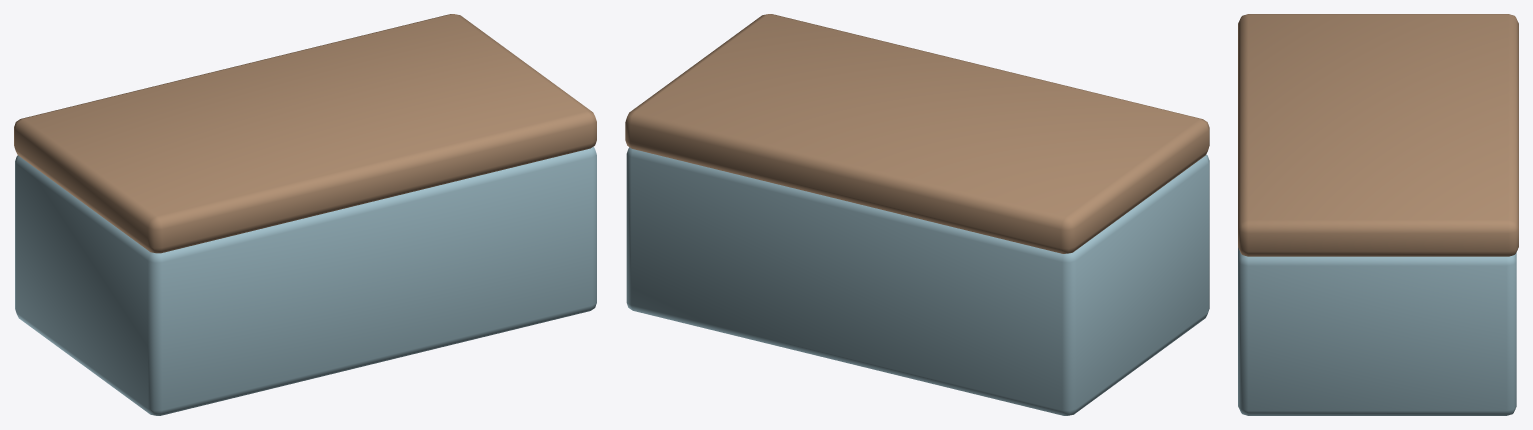
The model's file is Furniture_Counter_01.glb.
3 views of the same model, side by side, from view 1: azimuth 30°, elevation 25°; view 2: azimuth 150°, elevation 25°; view 3: azimuth 270°, elevation 25° (orthographic). The views are drawn at different scales.
Parts seen in each view (by area): view 1: SM_Furniture_Counter_01; view 2: SM_Furniture_Counter_01; view 3: SM_Furniture_Counter_01.
Part boxes in pixels (bbox=[...]): SM_Furniture_Counter_01: bbox=[14, 14, 596, 415]; SM_Furniture_Counter_01: bbox=[625, 14, 1209, 415]; SM_Furniture_Counter_01: bbox=[1238, 14, 1518, 415].
Bounding box in the file's own units: 1.97 × 0.8418 × 1.09.
1 material, 1 textured.
